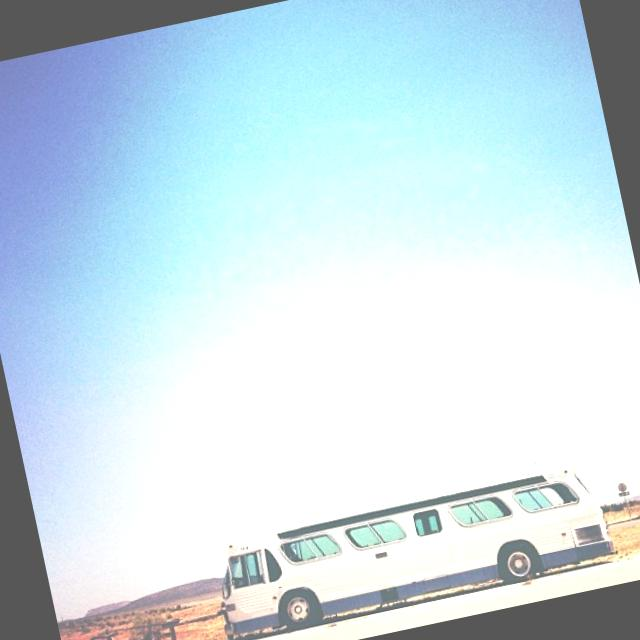Vehicle: (206, 451, 612, 640)
